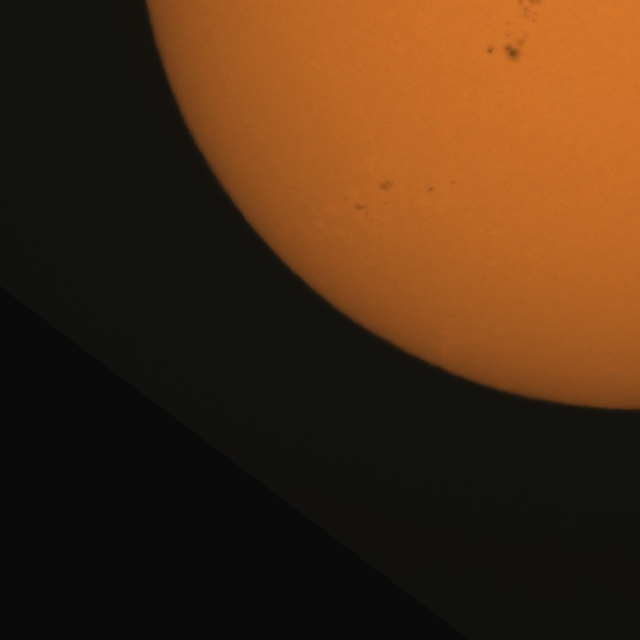sunspot: (500, 25, 528, 63), (520, 1, 540, 24), (342, 196, 367, 213), (377, 178, 395, 197), (486, 43, 496, 56), (449, 179, 458, 187), (426, 186, 434, 195)
